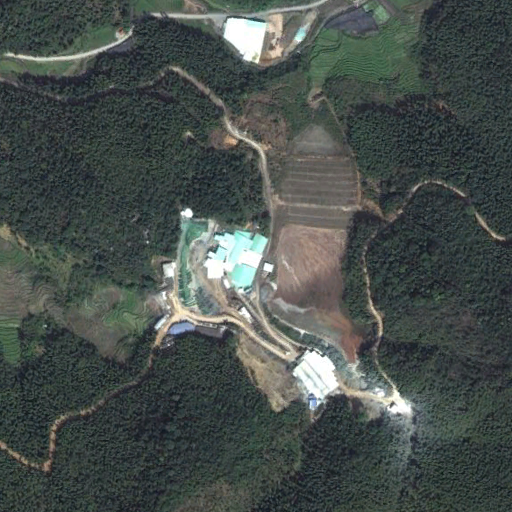tp: (259, 151, 372, 366)
